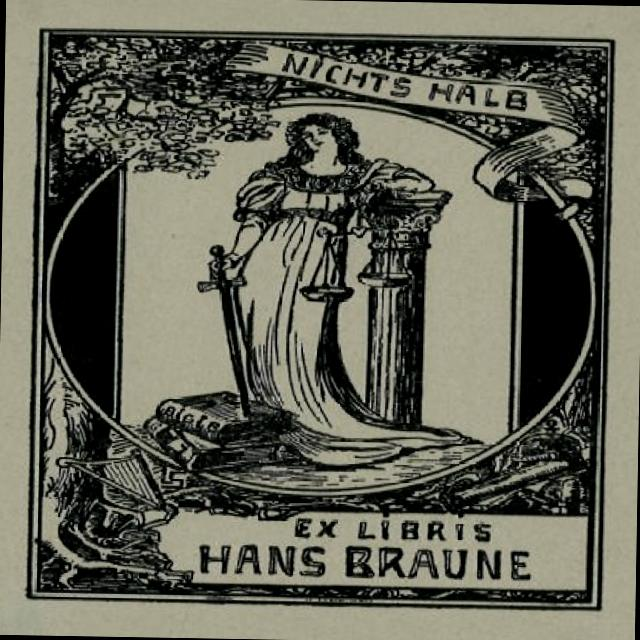Person: (218, 100, 444, 406)
